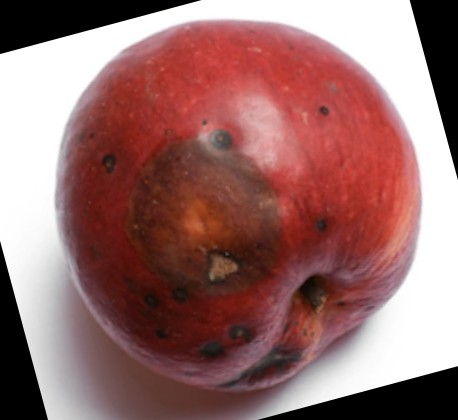rotten_apple: (54, 20, 422, 389)
